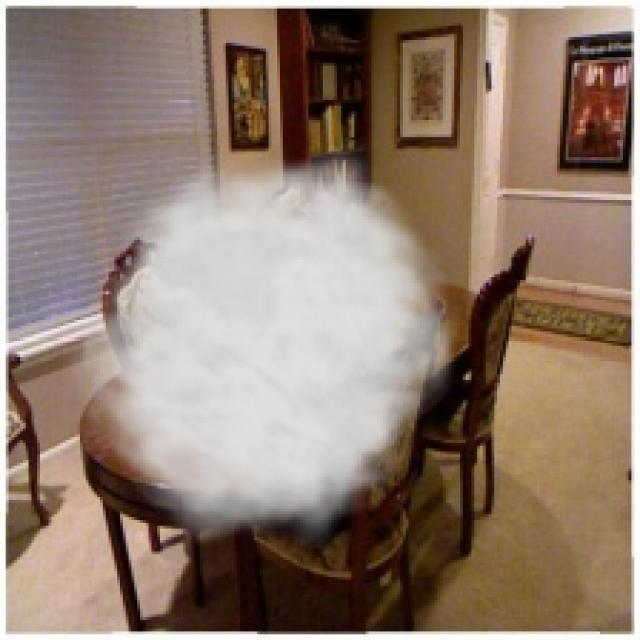smoke: (60, 137, 469, 549)
